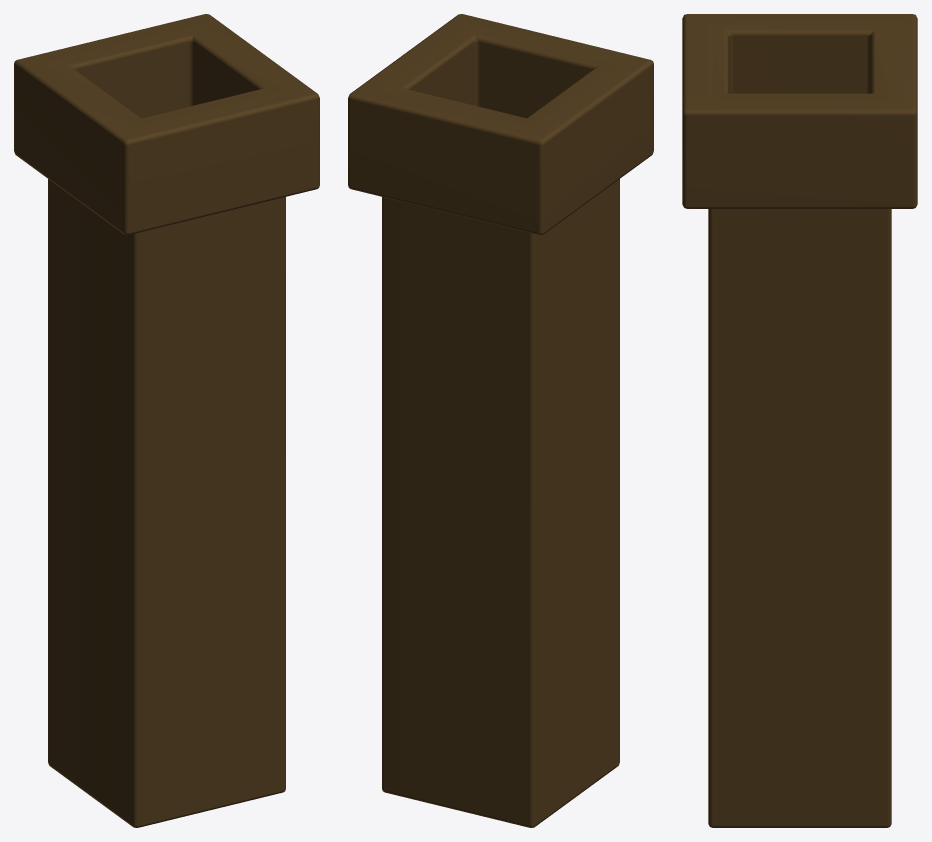
The model's file is FM_H_SH_02_Chimney_001.fbx.
3 views of the same model, side by side, from view 1: azimuth 30°, elevation 25°; view 2: azimuth 150°, elevation 25°; view 3: azimuth 270°, elevation 25° (orthographic). The views are drawn at different scales.
Visible parts, largest first — view 1: FM_H_Small_house_02_Chimney_001; view 2: FM_H_Small_house_02_Chimney_001; view 3: FM_H_Small_house_02_Chimney_001.
Boxes of the visible parts, x1,y1,x2,y2 form: FM_H_Small_house_02_Chimney_001: [14, 14, 319, 827]; FM_H_Small_house_02_Chimney_001: [348, 14, 653, 827]; FM_H_Small_house_02_Chimney_001: [682, 14, 917, 827].
Bounding box in the file's own units: 0.5572 × 1.91 × 0.5572.
